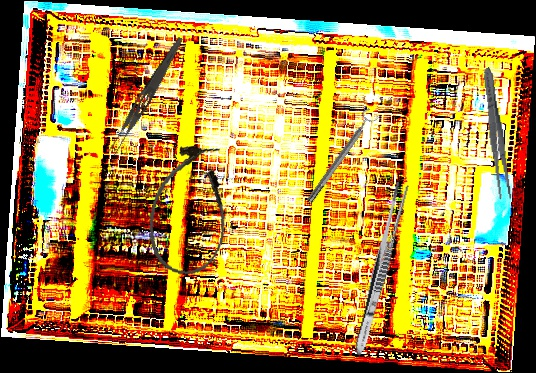Cannula: (141, 139, 238, 281)
Dressing Forceps: (350, 179, 411, 358), (105, 33, 186, 158), (478, 66, 515, 201)
Fixation Ring: (301, 107, 381, 206)
